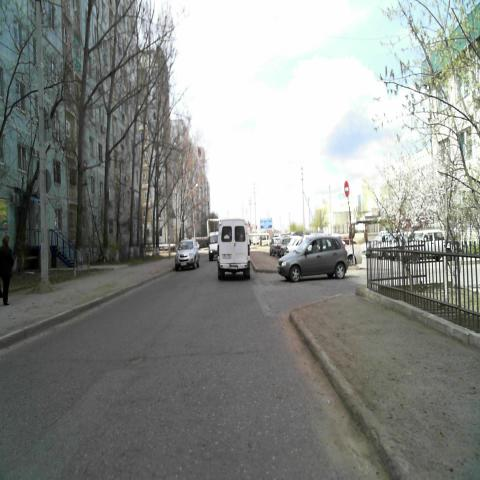3_1: (343, 180, 351, 200)
